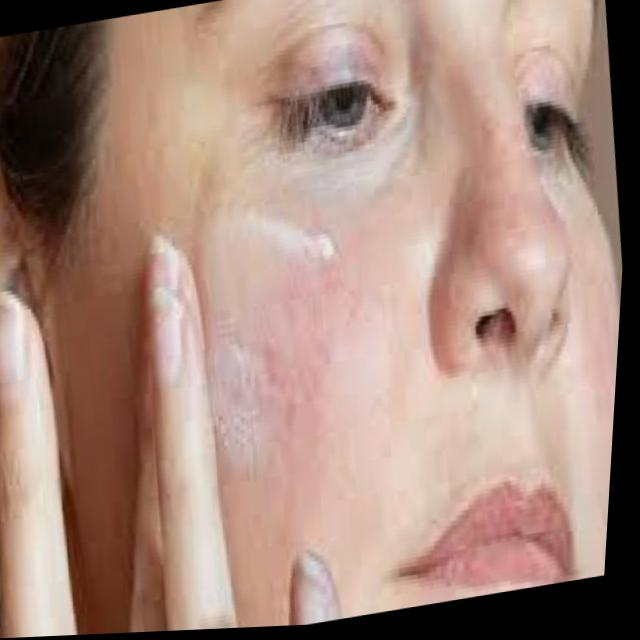Rosacea: (189, 233, 398, 487)
